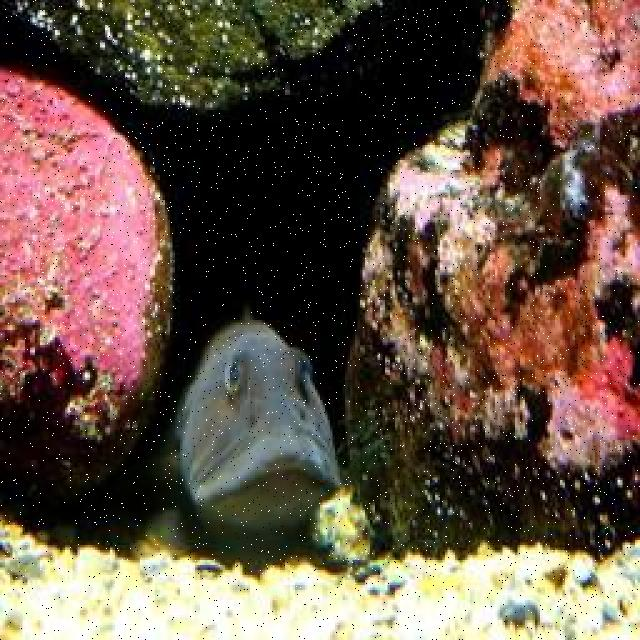fish: (153, 312, 338, 535)
reefs: (0, 0, 384, 506), (339, 0, 638, 562)
sea-floor: (314, 488, 372, 569)
